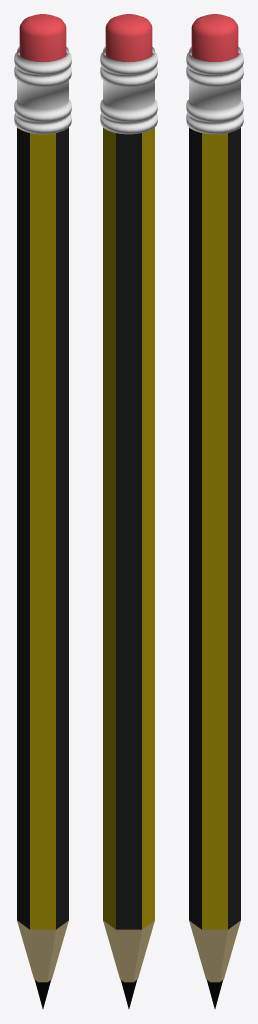
File: pencil.glb
3 views of the same model, side by side, from view 1: azimuth 30°, elevation 25°; view 2: azimuth 210°, elevation 25°; view 3: azimuth 270°, elevation 25° (orthographic).
Visible parts, largest first — view 1: PencilMiddle, RubberCover, Rubber; view 2: PencilMiddle, RubberCover, Rubber; view 3: PencilMiddle, RubberCover, Rubber.
Part boxes in pixels (x1=…): PencilMiddle: x1=17, y1=127, x2=68, y2=1008; RubberCover: x1=14, y1=47, x2=71, y2=134; Rubber: x1=19, y1=14, x2=66, y2=61; PencilMiddle: x1=103, y1=127, x2=154, y2=1008; RubberCover: x1=100, y1=47, x2=157, y2=134; Rubber: x1=105, y1=14, x2=152, y2=61; PencilMiddle: x1=189, y1=127, x2=240, y2=1008; RubberCover: x1=186, y1=47, x2=243, y2=134; Rubber: x1=191, y1=14, x2=238, y2=61.
Bounding box in the file's own units: 0.011 × 0.2096 × 0.011.
